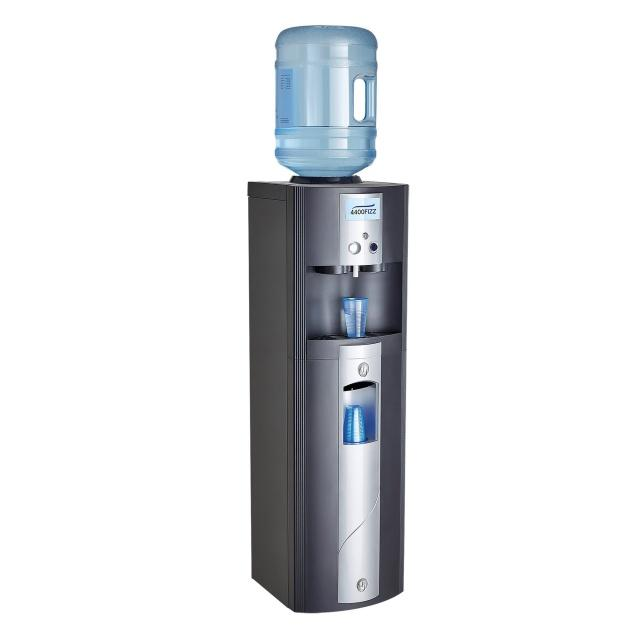Dispenser: (248, 24, 408, 612)
